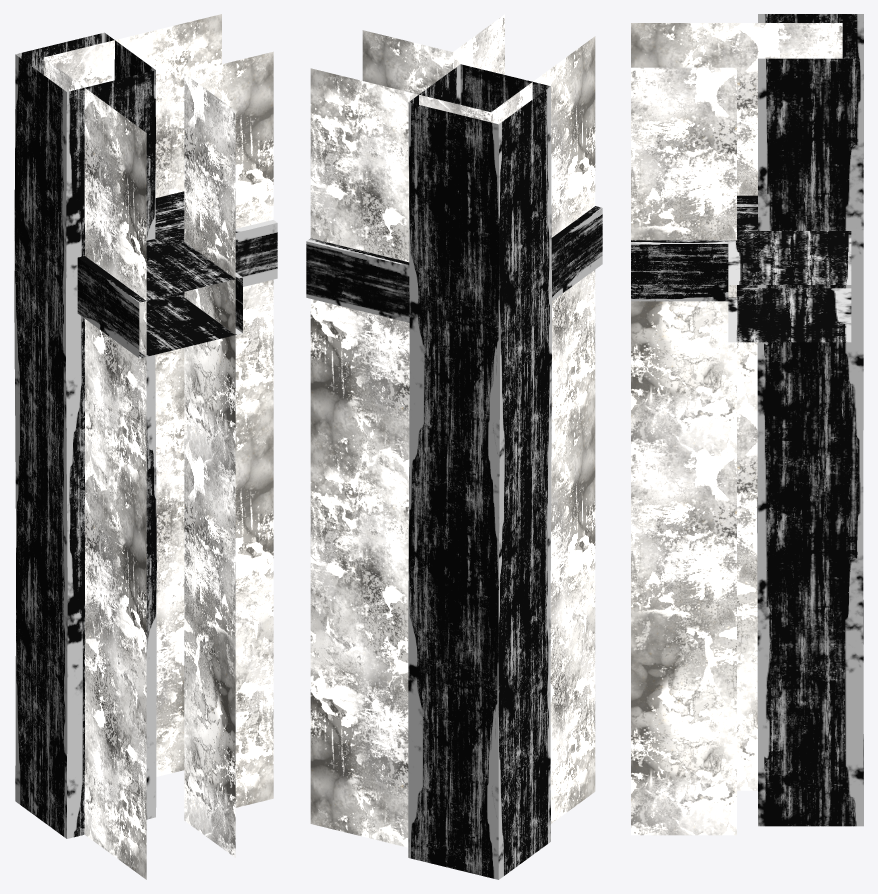
Rendered from SM_wall_A_corner_4_01_02.fbx.
The picture shows the model from 3 angles, left to right: view 1: azimuth 30°, elevation 25°; view 2: azimuth 150°, elevation 25°; view 3: azimuth 270°, elevation 25°; orthographic projection. The views are drawn at different scales.
Parts seen in each view (by area): view 1: SM_wall_A_corner_4_01_02_LOD0; view 2: SM_wall_A_corner_4_01_02_LOD0; view 3: SM_wall_A_corner_4_01_02_LOD0.
Part boxes in pixels (<box>): SM_wall_A_corner_4_01_02_LOD0: <box>14,14,277,879</box>; SM_wall_A_corner_4_01_02_LOD0: <box>306,14,602,879</box>; SM_wall_A_corner_4_01_02_LOD0: <box>631,14,863,835</box>.
Size of the model in its own units: 111 by 110 by 400.
3 materials, 3 textured.
